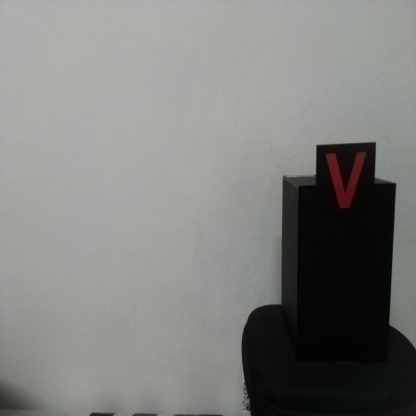id_11: (317, 145, 376, 223)
